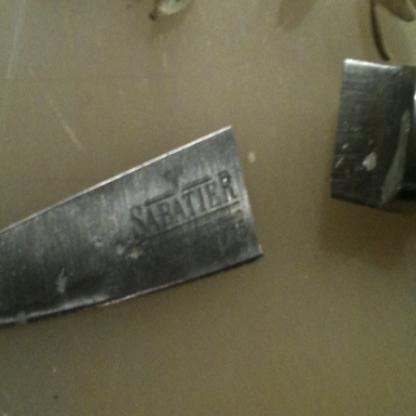knife: (0, 58, 415, 344)
